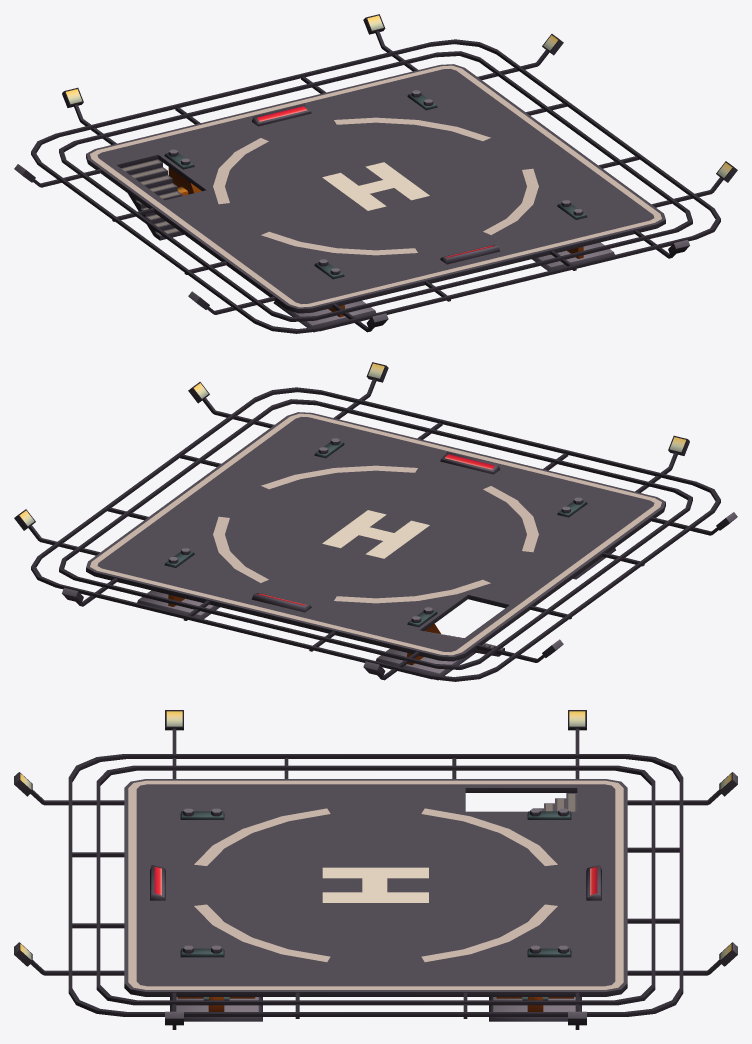
The model's file is Helipad_1B.fbx.
The picture shows the model from 3 angles, top to bottom: view 1: azimuth 30°, elevation 25°; view 2: azimuth 150°, elevation 25°; view 3: azimuth 270°, elevation 25°; orthographic projection. The views are drawn at different scales.
Visible parts, largest first — view 1: Helipad_1B; view 2: Helipad_1B; view 3: Helipad_1B.
Boxes of the visible parts, x1,y1,x2,y2 form: Helipad_1B: [14, 14, 737, 333]; Helipad_1B: [14, 362, 737, 681]; Helipad_1B: [14, 710, 737, 1029].
Size of the model in its own units: 2588 by 297 by 2588.
